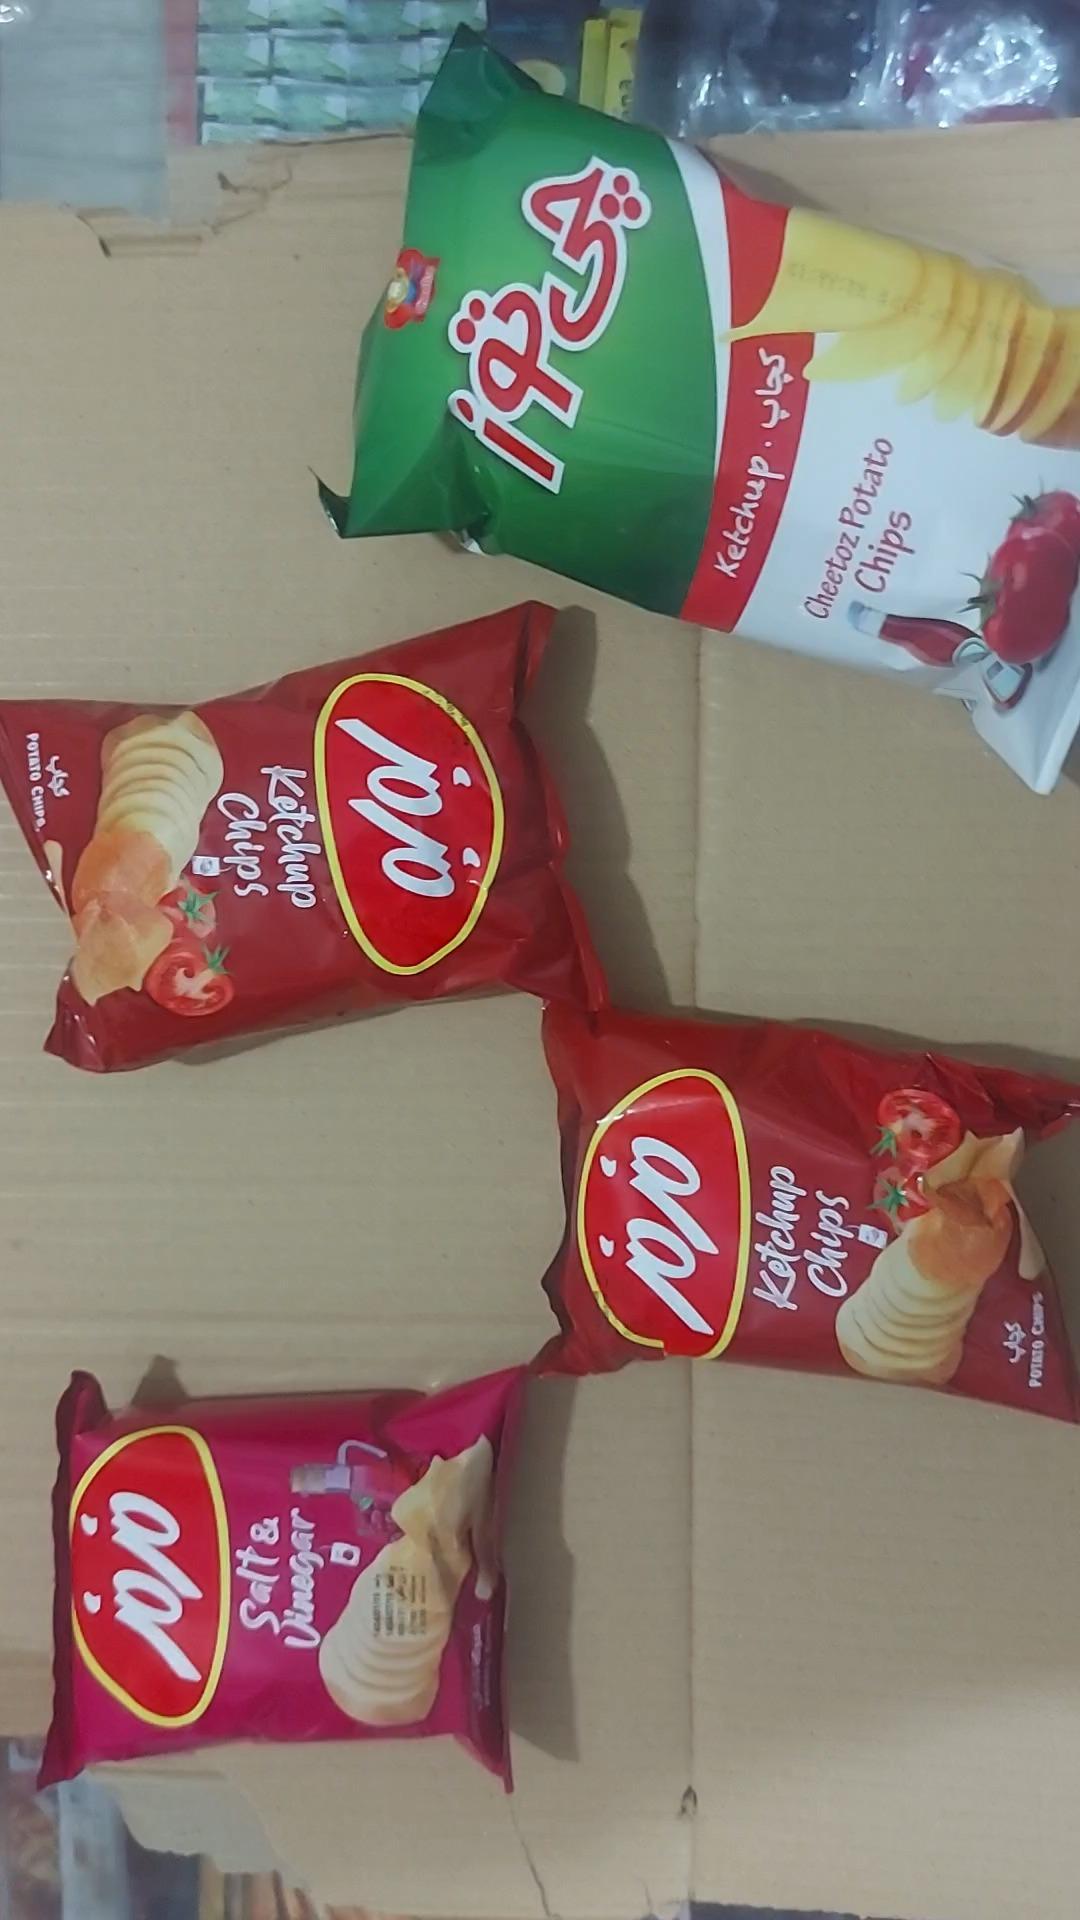Cheetoz ketchup chips: (314, 24, 1079, 799)
Maz Maz ketchup chips: (0, 601, 611, 1076), (526, 1002, 1079, 1427)
Maz Maz vinegar chips: (36, 1367, 527, 1793)
